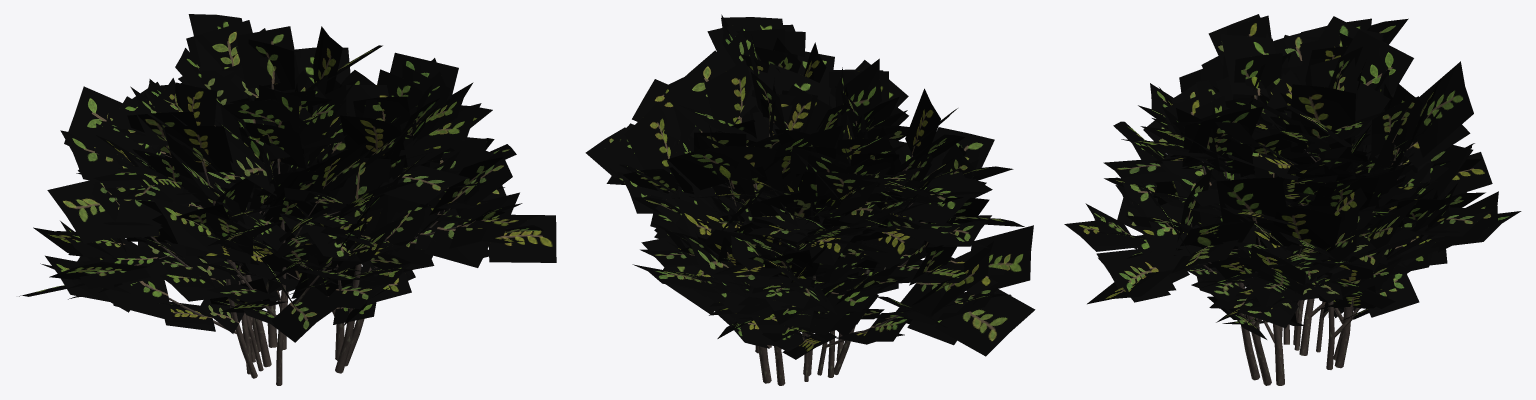
Rendered from trnka_1.glb.
The picture shows the model from 3 angles, left to right: view 1: azimuth 30°, elevation 25°; view 2: azimuth 150°, elevation 25°; view 3: azimuth 270°, elevation 25°; orthographic projection. The views are drawn at different scales.
Parts seen in each view (by area): view 1: trnka_1; view 2: trnka_1; view 3: trnka_1.
Boxes of the visible parts, x1,y1,x2,y2 form: trnka_1: (19, 14, 556, 385); trnka_1: (585, 14, 1035, 385); trnka_1: (1064, 14, 1521, 385).
Size of the model in its own units: 3.49 by 2.24 by 2.93.
Materials: 2 (2 with a texture image).
